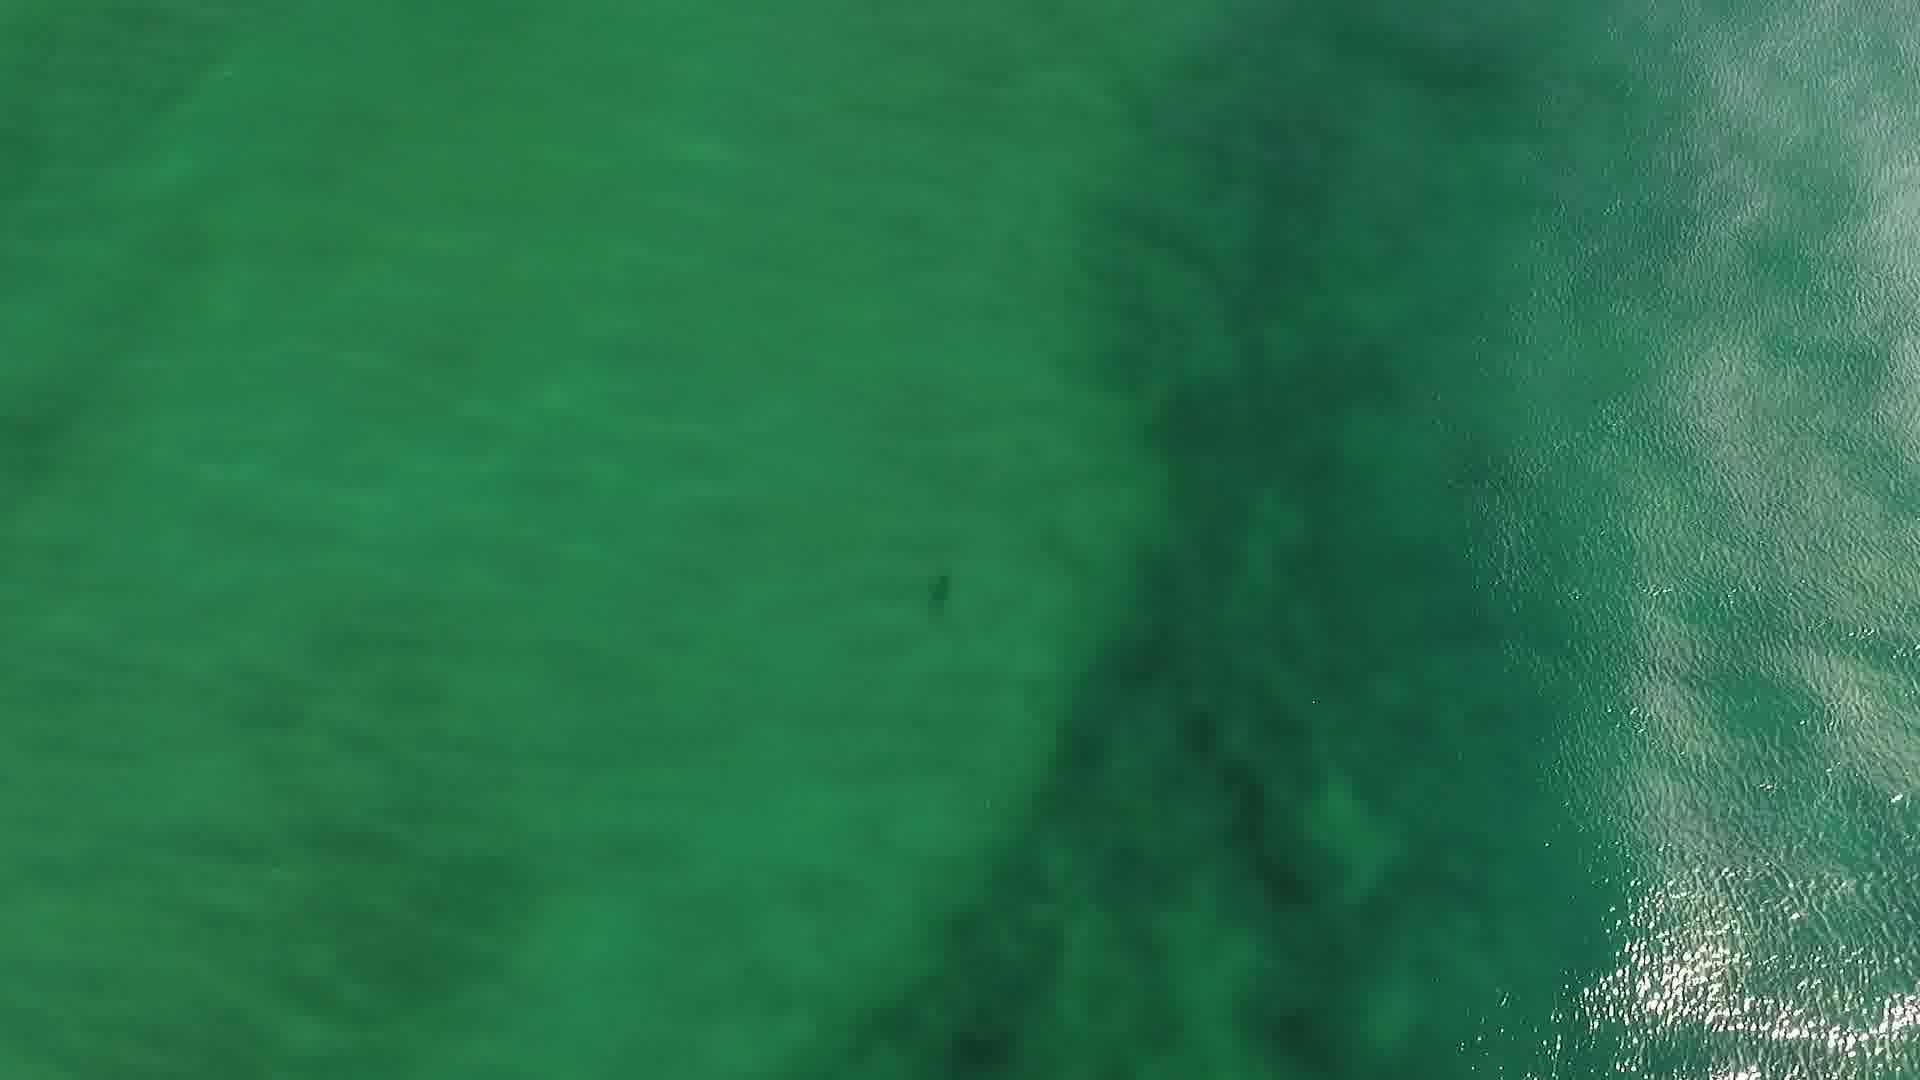shark: (916, 574, 957, 618)
